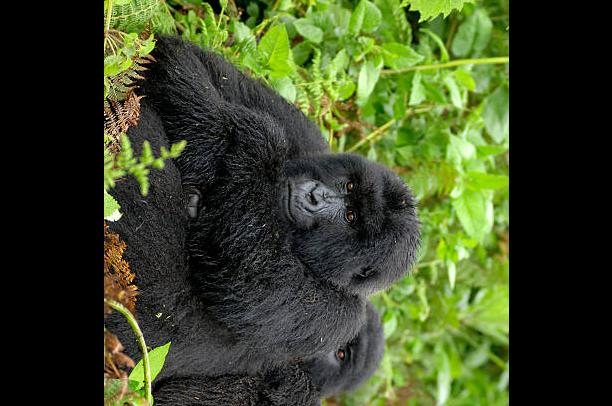goriile_montagne: (124, 49, 426, 329)
